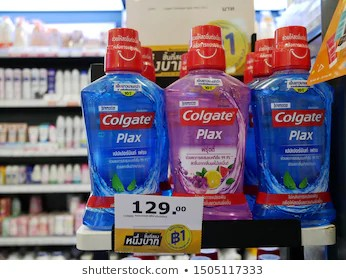colgate-Plax: (166, 20, 256, 224), (79, 27, 167, 233), (253, 24, 338, 225)
